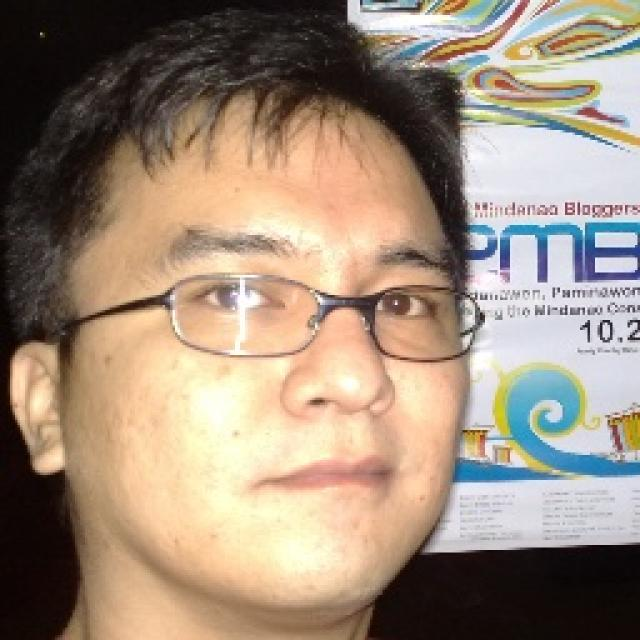earlobe: (10, 344, 70, 478)
